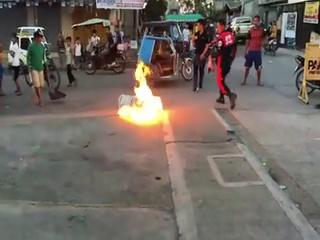Fire: (116, 61, 168, 126)
